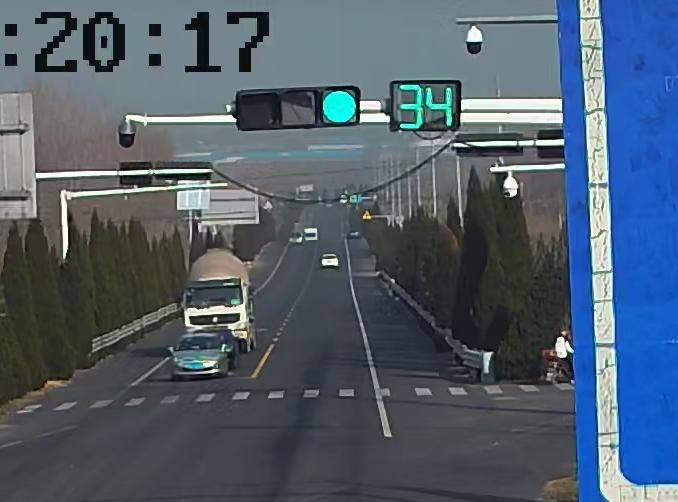green: (323, 90, 358, 125)
greentime: (397, 82, 456, 130)
